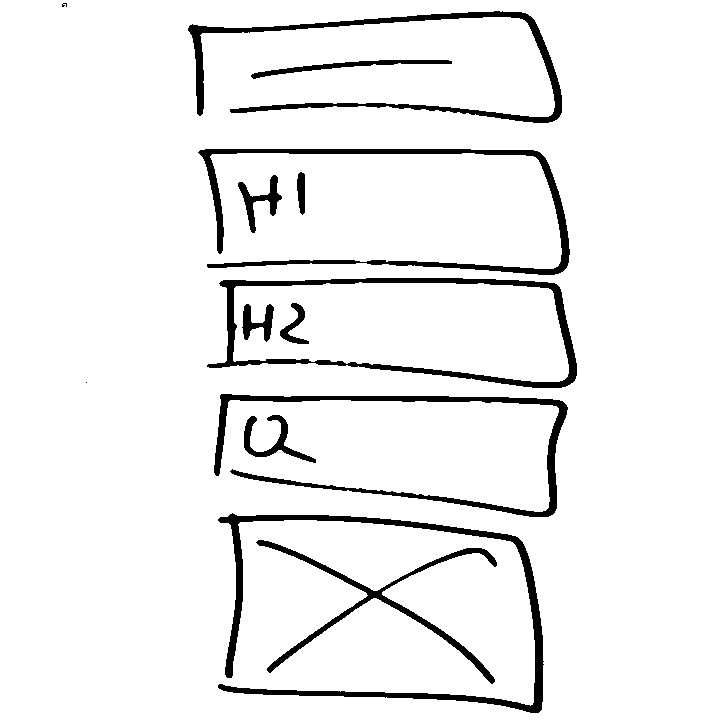button: (177, 5, 571, 133)
heading1: (194, 145, 575, 276)
heading2: (211, 276, 583, 394)
picture: (213, 513, 555, 715)
search bar: (209, 389, 574, 519)
